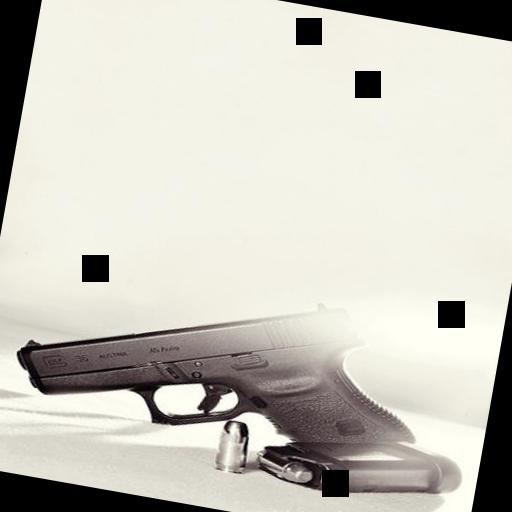Handgun: (0, 245, 436, 467)
